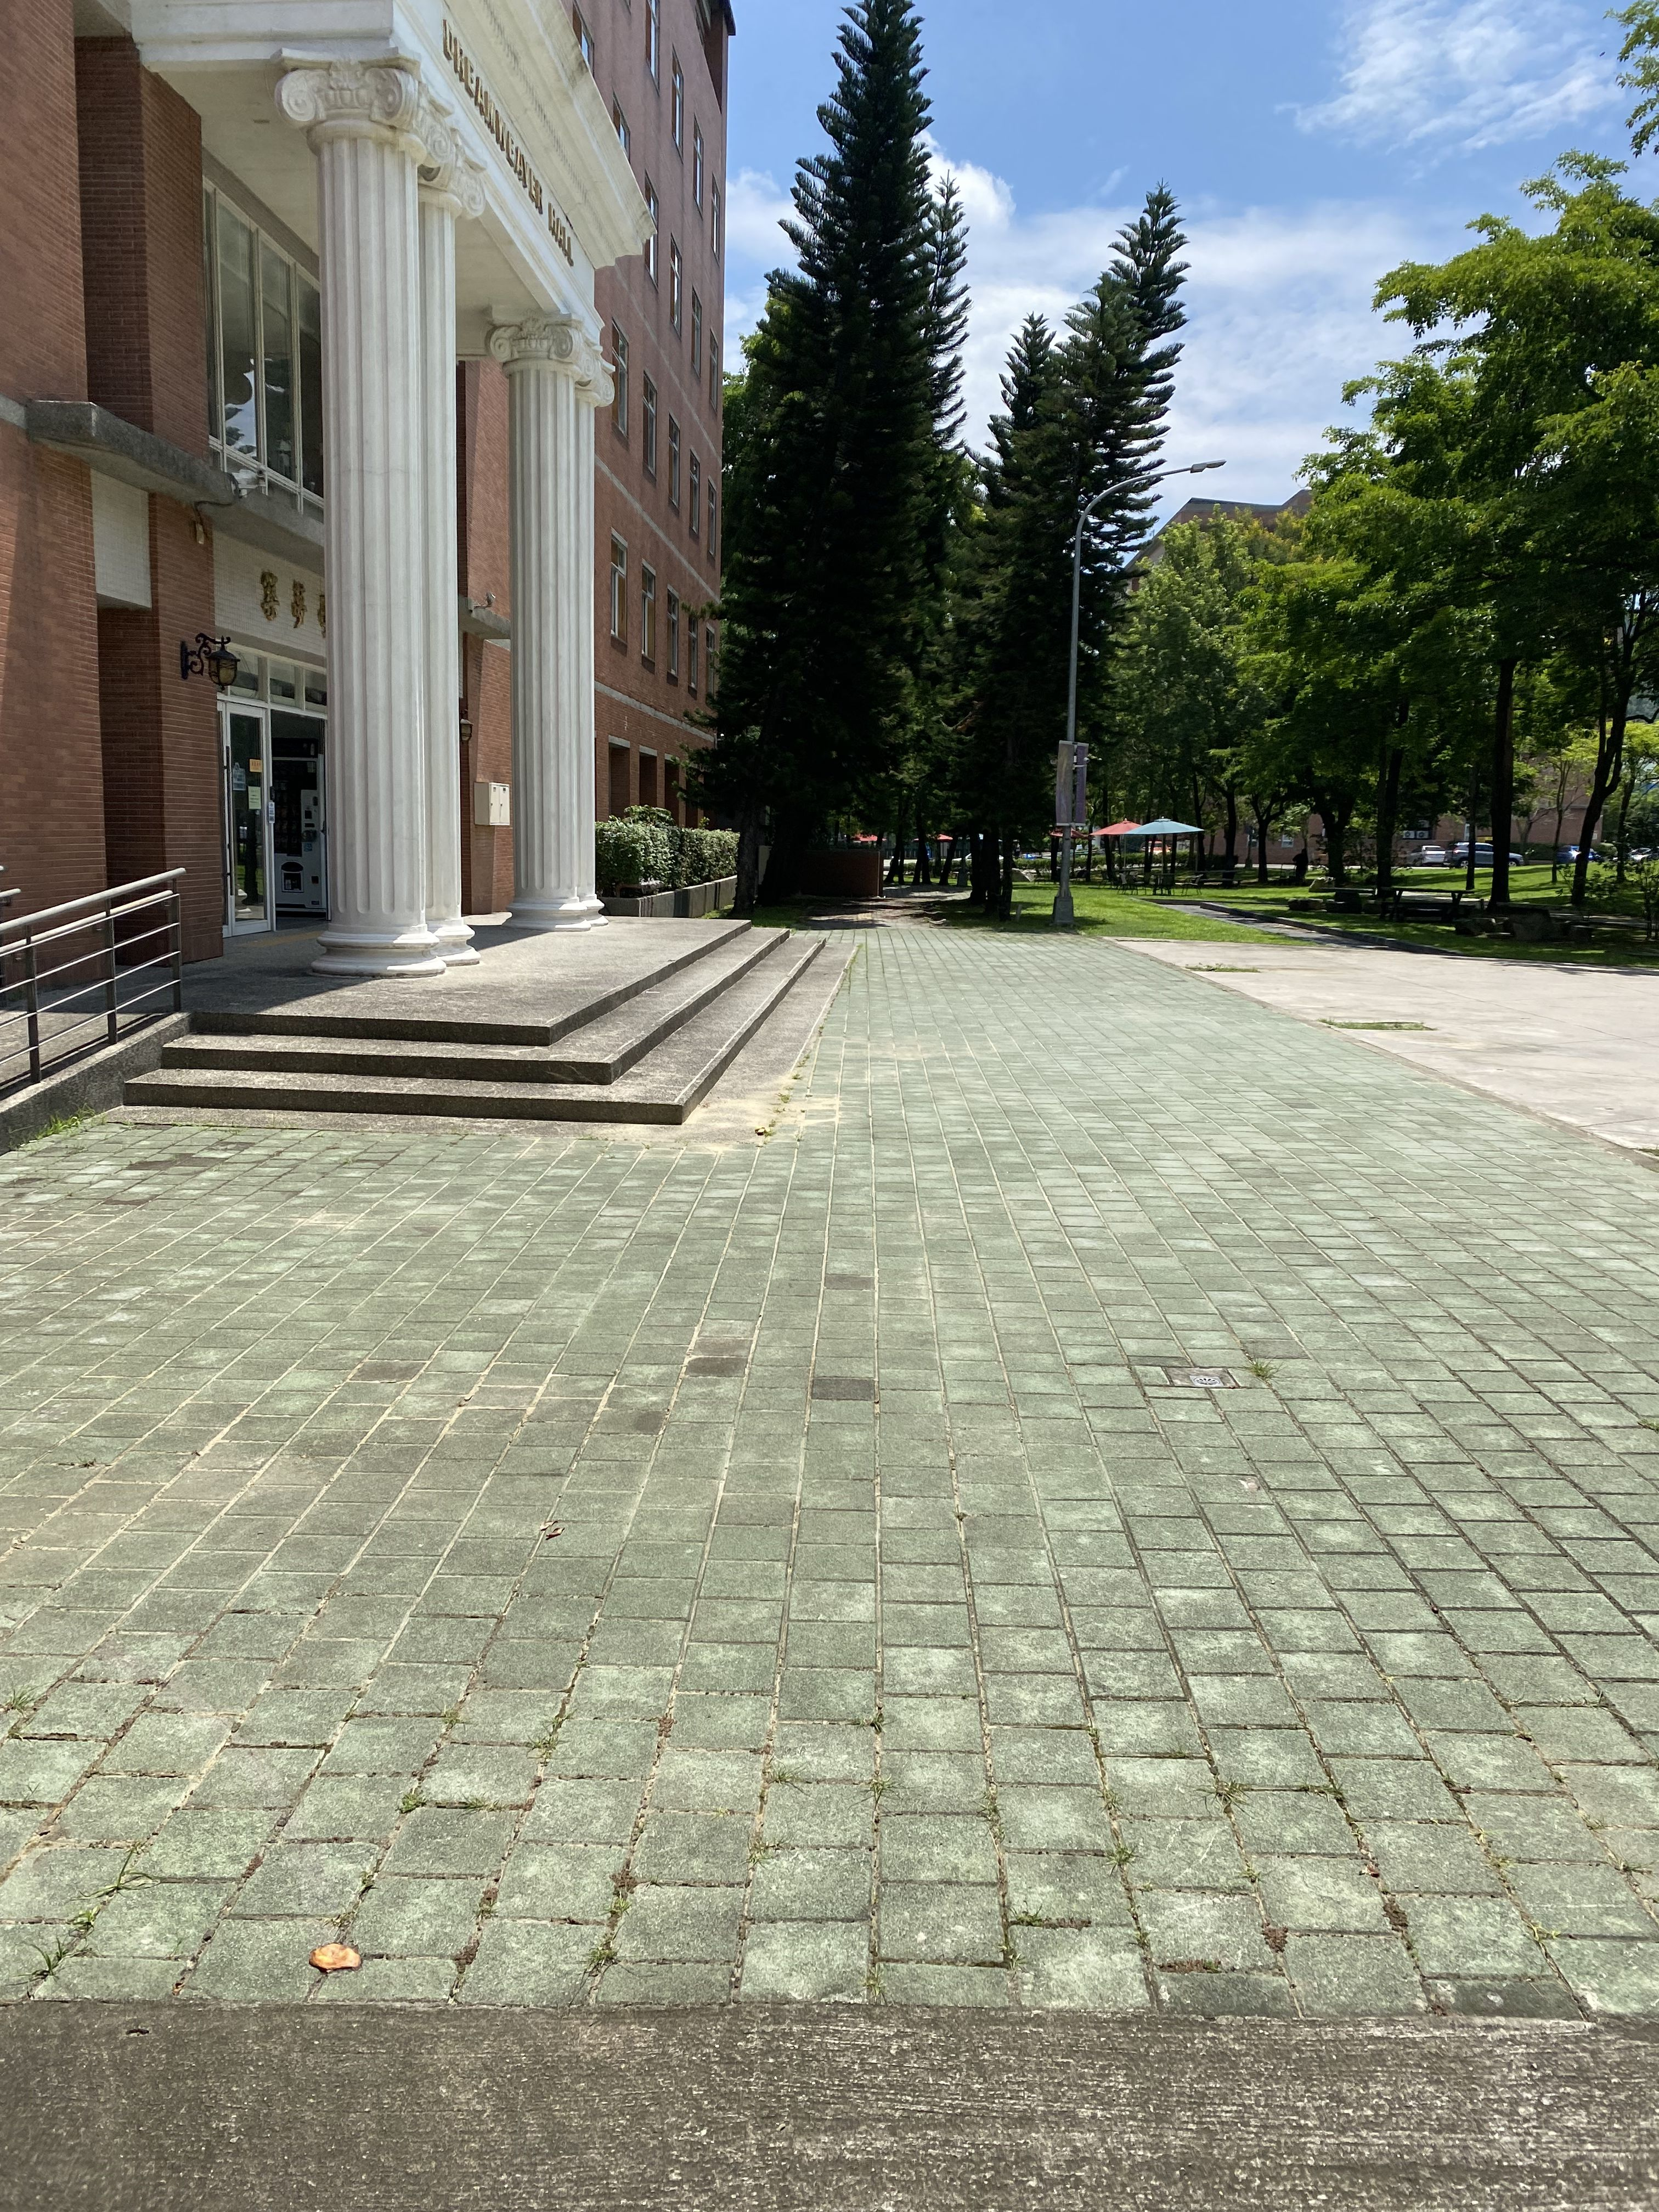0: (5, 1073, 852, 2193)
sidewalk: (725, 831, 1659, 2212)
